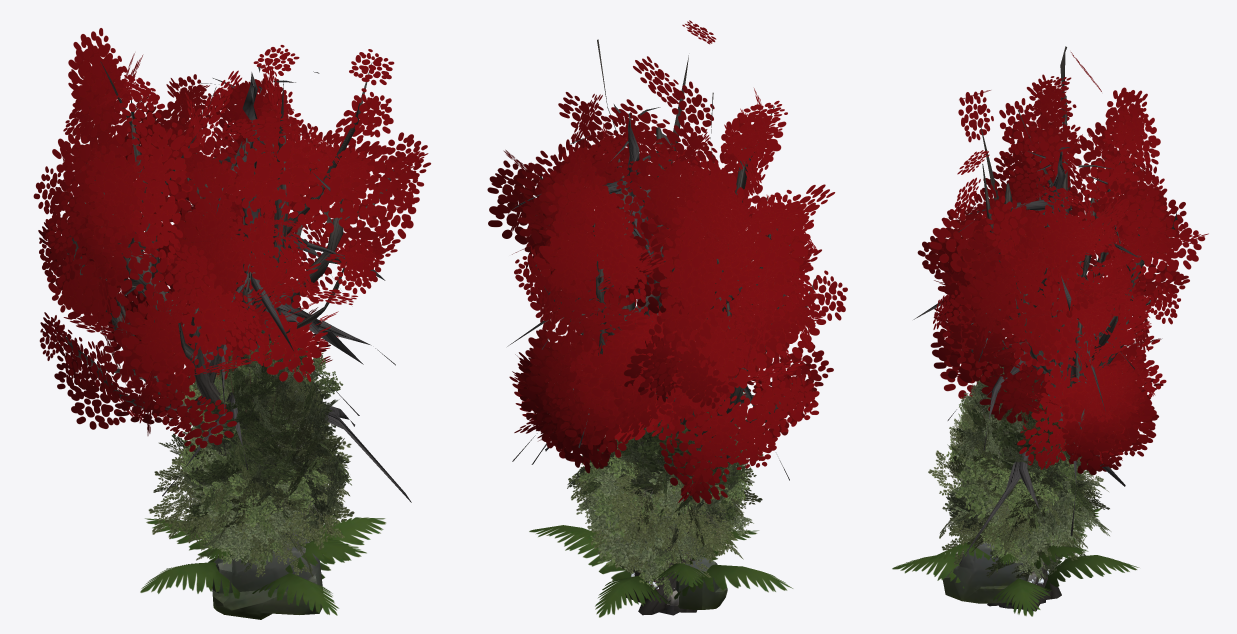
Rendered from natura.glb.
3 renders of one model, left to right at view 1: azimuth 30°, elevation 25°; view 2: azimuth 150°, elevation 25°; view 3: azimuth 270°, elevation 25°, orthographic. The views are drawn at different scales.
Parts seen in each view (by area): view 1: contorto_2, contorto_1, albero_a2, albero_c2, felce, albero_c1, albero_b2, morto, roccia, albero_a1, albero_a3, albero_b1 (+2 smaller); view 2: contorto_2, contorto_1, felce, albero_a2, albero_b1, albero_c2, albero_a1, albero_a3, albero_c3, albero_c1, albero_b2, morto (+2 smaller); view 3: contorto_1, contorto_2, albero_c2, albero_b2, felce, albero_a2, morto, albero_b1, albero_c1, roccia, albero_a3, albero_a1 (+2 smaller).
Part boxes in pixels (bbox=[...]): contorto_2: bbox=[33, 28, 394, 529]; contorto_1: bbox=[108, 74, 430, 394]; albero_a2: bbox=[148, 375, 349, 577]; albero_c2: bbox=[177, 327, 351, 564]; felce: bbox=[140, 515, 385, 615]; albero_c1: bbox=[188, 322, 338, 568]; albero_b2: bbox=[190, 359, 348, 558]; morto: bbox=[116, 67, 411, 502]; roccia: bbox=[212, 532, 322, 619]; albero_a1: bbox=[164, 375, 333, 575]; albero_a3: bbox=[161, 360, 354, 571]; albero_b1: bbox=[178, 373, 329, 549]; contorto_2: bbox=[512, 20, 847, 614]; contorto_1: bbox=[487, 112, 761, 615]; felce: bbox=[529, 525, 793, 617]; albero_a2: bbox=[575, 406, 763, 573]; albero_b1: bbox=[567, 411, 753, 565]; albero_c2: bbox=[578, 412, 752, 541]; albero_a1: bbox=[610, 431, 738, 572]; albero_a3: bbox=[568, 423, 746, 570]; albero_c3: bbox=[590, 425, 739, 598]; albero_c1: bbox=[587, 392, 746, 530]; albero_b2: bbox=[597, 427, 743, 562]; morto: bbox=[507, 104, 789, 615]; contorto_1: bbox=[934, 150, 1208, 611]; contorto_2: bbox=[917, 46, 1166, 611]; albero_c2: bbox=[946, 347, 1097, 562]; albero_b2: bbox=[942, 381, 1088, 579]; felce: bbox=[892, 508, 1139, 616]; albero_a2: bbox=[928, 397, 1109, 565]; morto: bbox=[913, 147, 1166, 609]; albero_b1: bbox=[981, 409, 1111, 564]; albero_c1: bbox=[947, 362, 1088, 553]; roccia: bbox=[942, 542, 1028, 603]; albero_a3: bbox=[940, 389, 1102, 559]; albero_a1: bbox=[945, 402, 1103, 560].
Size of the model in its own units: 12.93 by 19.12 by 11.02.
Materials: 18 (18 with a texture image).
